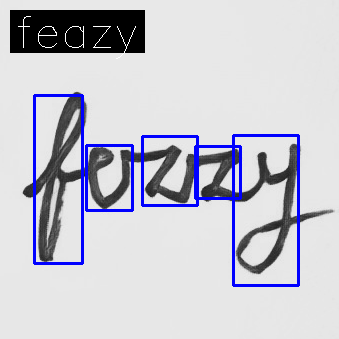e: (83, 144, 117, 210)
f: (34, 89, 89, 264)
y: (232, 140, 303, 275)
z: (119, 144, 183, 203), (184, 147, 245, 204)
